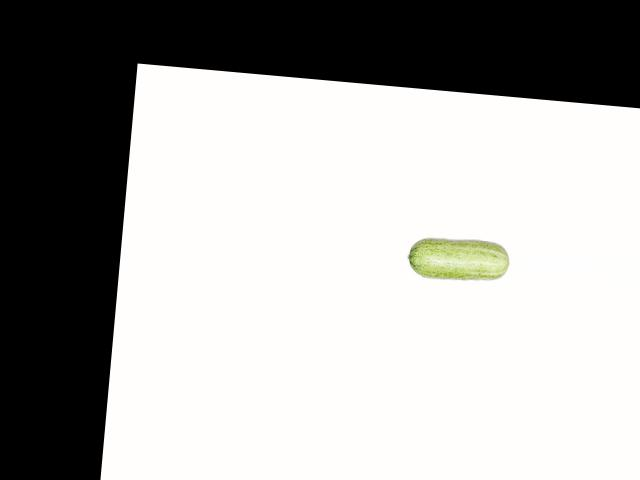cucumber: (405, 234, 510, 284)
